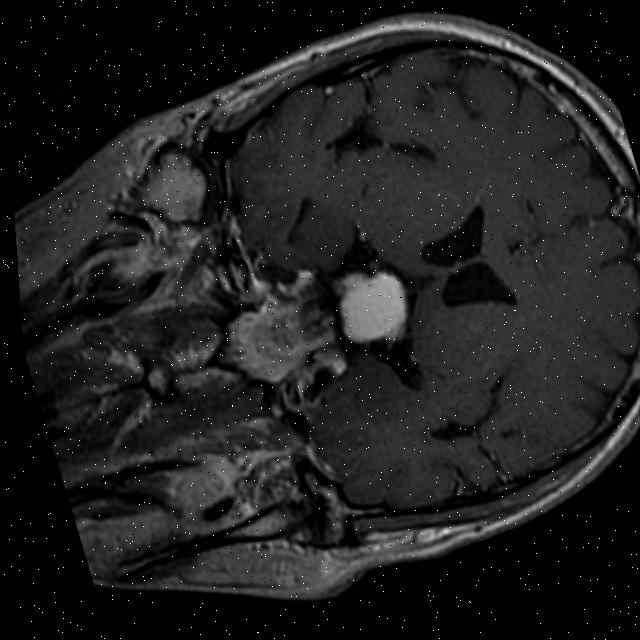Pituitary: (216, 296, 314, 394), (326, 258, 416, 354)
